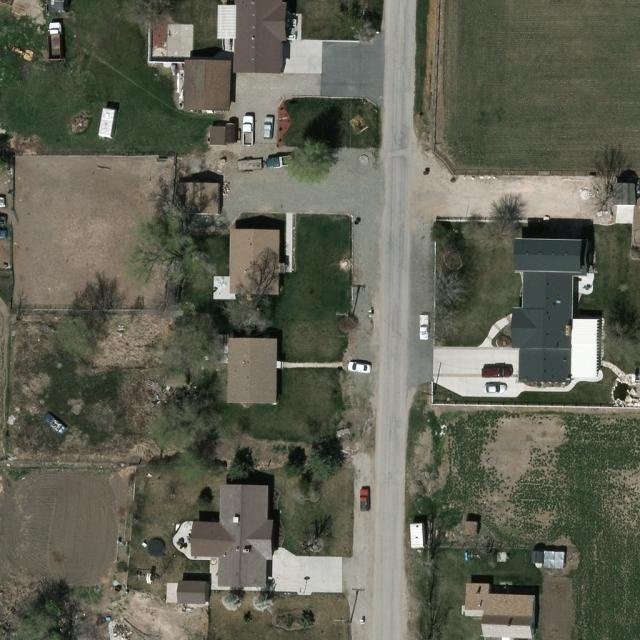vehicle: (47, 23, 65, 61), (43, 412, 68, 436), (266, 156, 298, 170), (346, 360, 373, 376), (481, 366, 513, 379), (262, 117, 276, 141), (244, 116, 254, 148), (420, 316, 430, 340), (360, 489, 370, 512), (484, 384, 506, 394)
